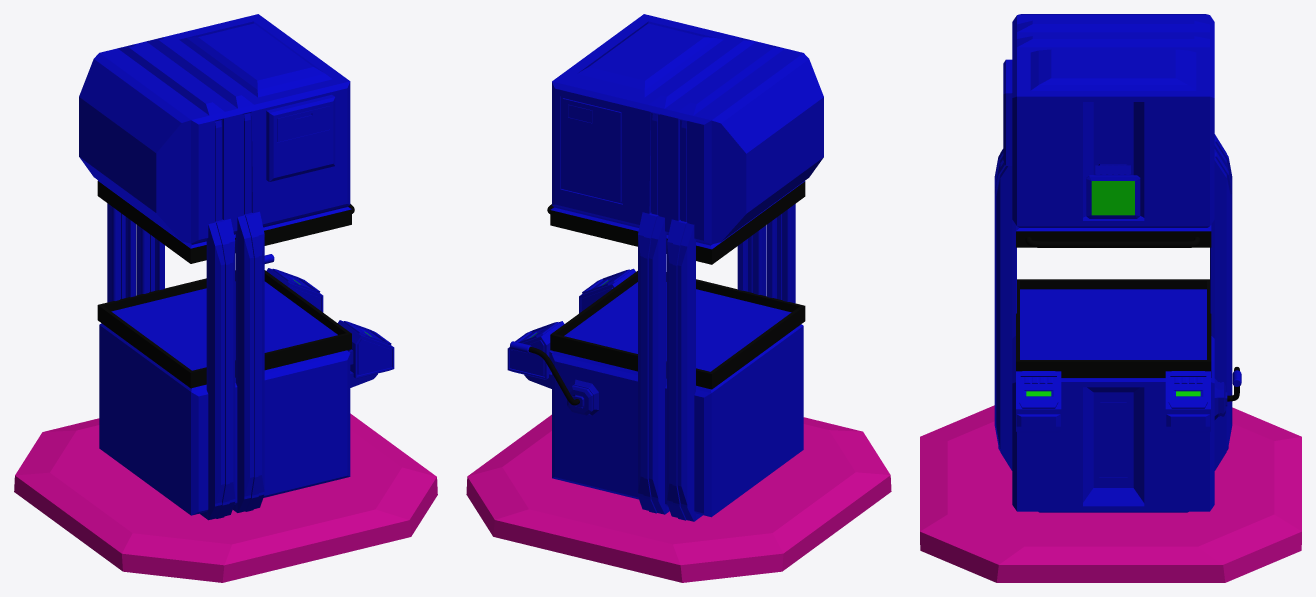
The model's file is planchabueno8.fbx.
The picture shows the model from 3 angles, left to right: view 1: azimuth 30°, elevation 25°; view 2: azimuth 150°, elevation 25°; view 3: azimuth 270°, elevation 25°; orthographic projection. The views are drawn at different scales.
Visible parts, largest first — view 1: cuerpo.002, cuerpo.001; view 2: cuerpo.002, cuerpo.001; view 3: cuerpo.002 (×2), cuerpo.001.
Boxes of the visible parts, x1,y1,x2,y2 form: cuerpo.002: (79,14,394,520); cuerpo.001: (14,413,437,582); cuerpo.002: (507,14,823,521); cuerpo.001: (466,414,891,582); cuerpo.002 (×2): (994,14,1241,512); cuerpo.001: (920,405,1301,582).
Bounding box in the file's own units: 391 × 513 × 391.
